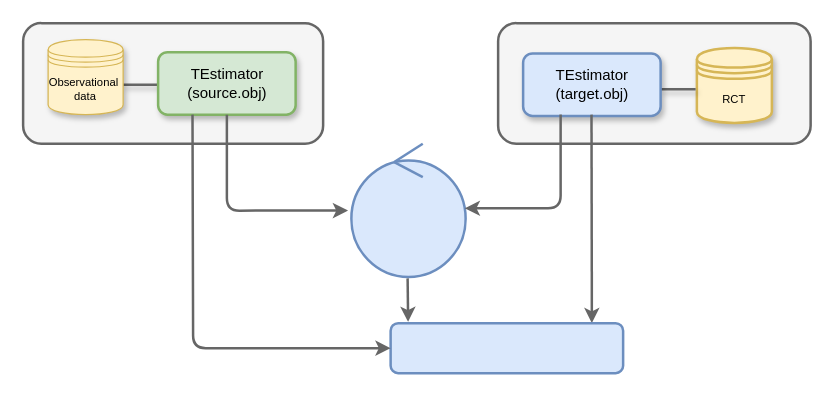
Image size: 833x395. Some labels were removed from this diagram. The shapes that lost their labels are listed below. From the top down, each one's centre as x and y in pixels, then its label:
At point 408,210: "SEstimator (source.obj.rep)".
At point 506,347: "Fusion (fusion)".
